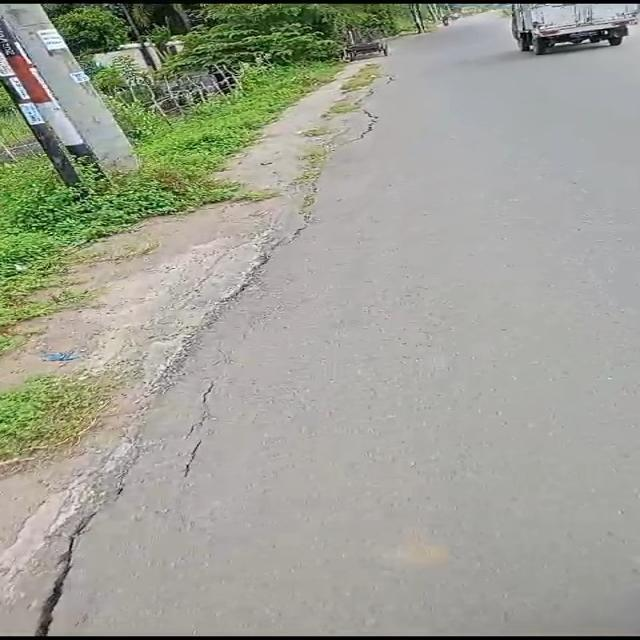Pinggir: (24, 69, 381, 335)
